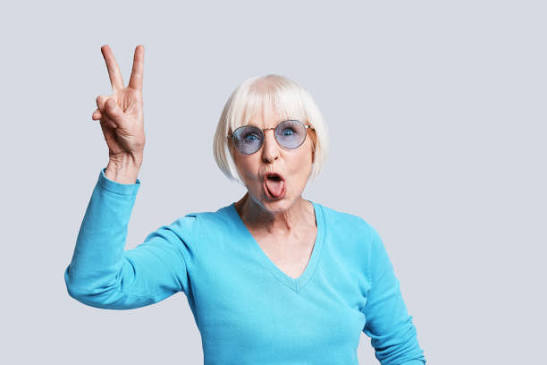peace_sign: (92, 28, 157, 161)
